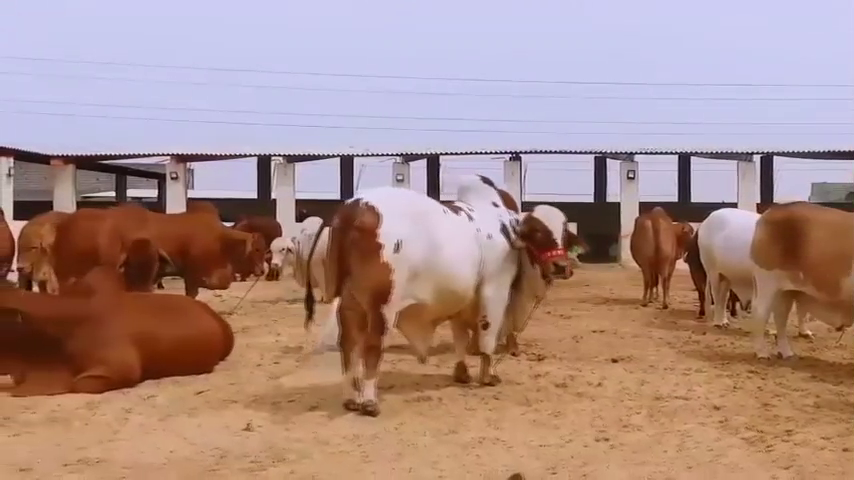bo: (308, 157, 587, 426), (3, 259, 244, 407), (749, 175, 854, 368), (157, 179, 270, 306), (49, 195, 175, 301), (685, 182, 764, 334), (614, 193, 693, 309), (6, 201, 85, 307), (268, 202, 335, 311)
